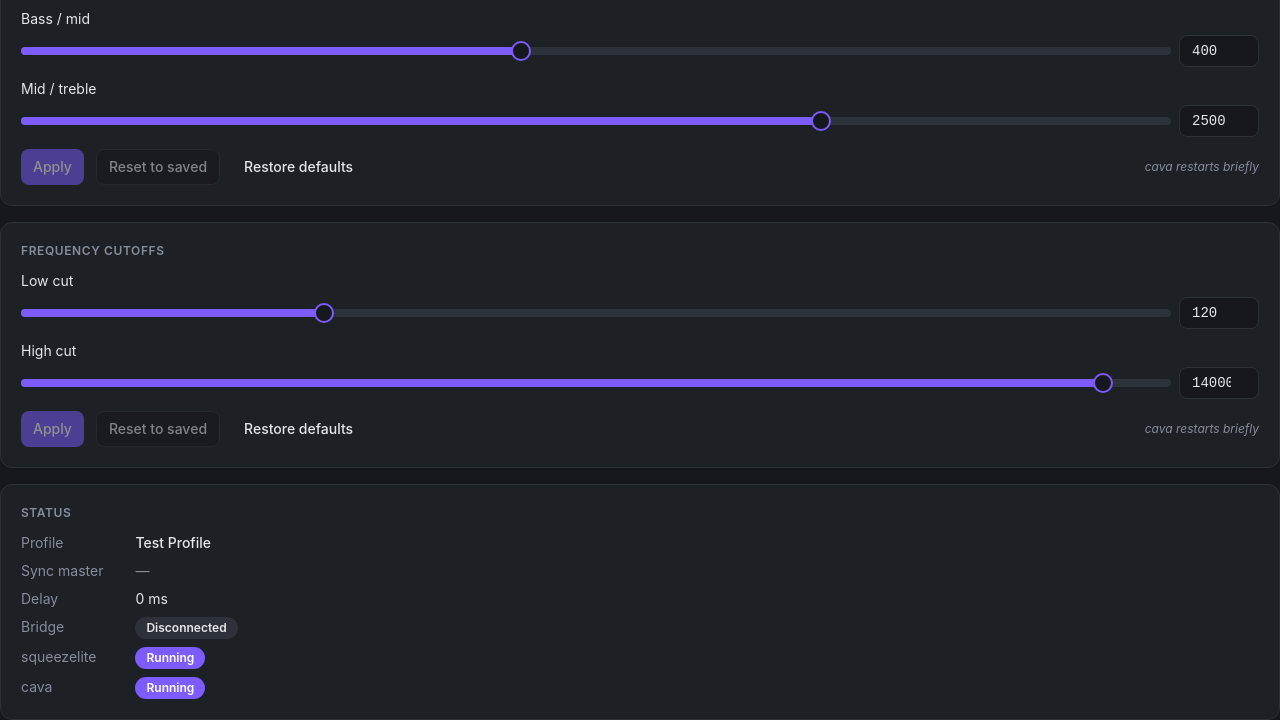
NowPlaying — Reset to saved & Restore factory defaults › Cutoffs — Restore factory defaults › Low cut: Restore defaults goes to DEFAULT value, not applied profile value
The width and height of the screenshot is (1280, 720).
(page scrolled)
What coordinates should you click on to do the following:
click the button with test id "restore-defaults-cutoffs"
I would click on:
 (299, 429)
Its box is [232,411,365,447].
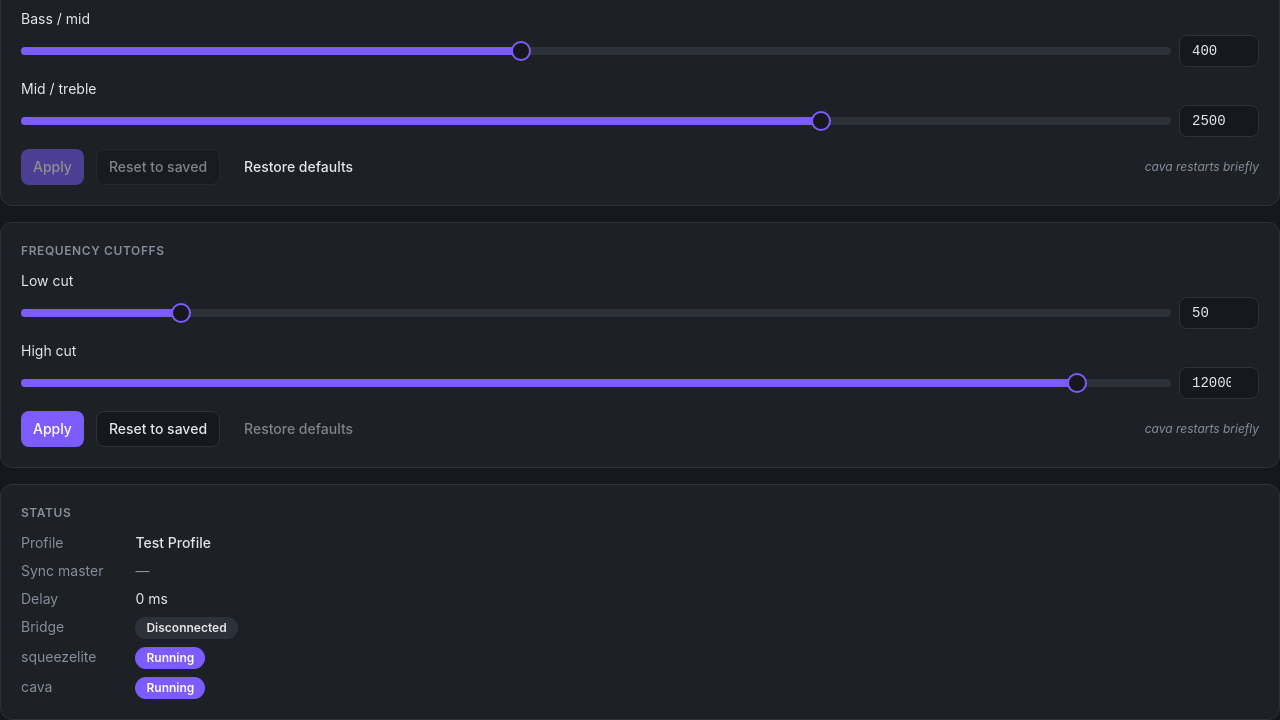
Expected: the number field with test id "low-cut-hz" holds "50", [1179,297,1259,329]
Expected: the number field with test id "low-cut-hz" does not hold "120", [1179,297,1259,329]
